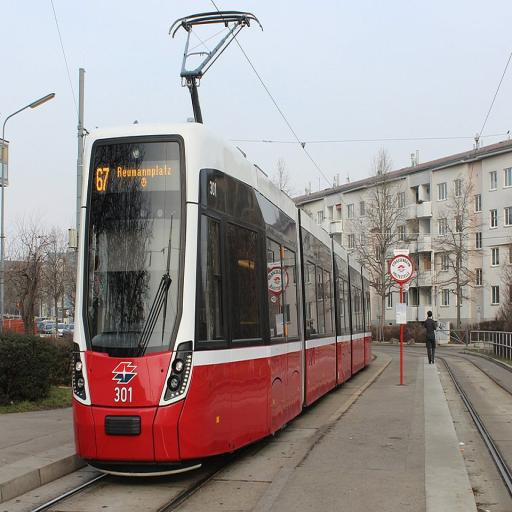Flexity: (67, 121, 374, 474)
